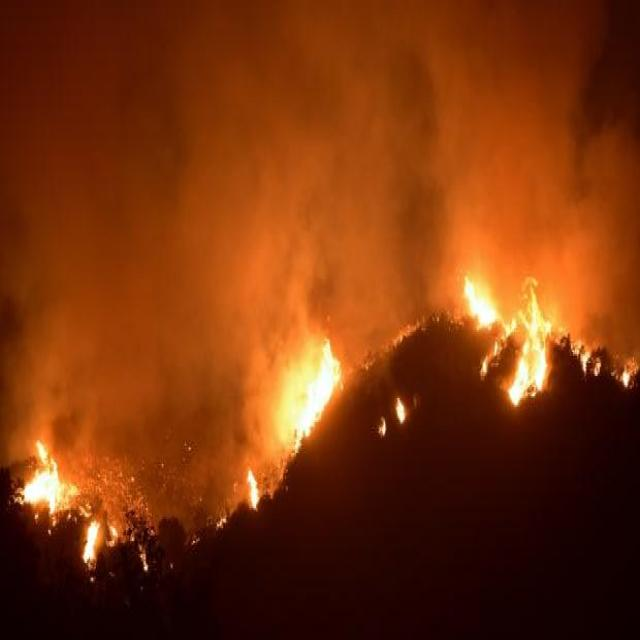Fire: (457, 262, 629, 402), (235, 334, 338, 513), (14, 427, 121, 572)
